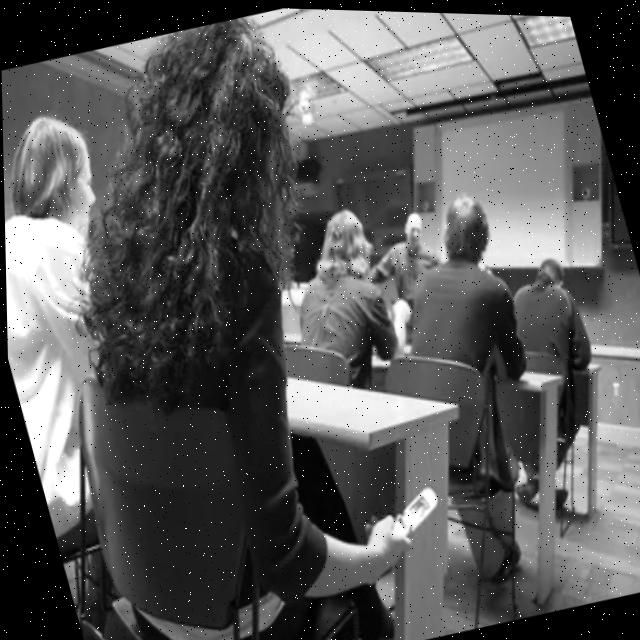phone: (377, 469, 451, 548)
